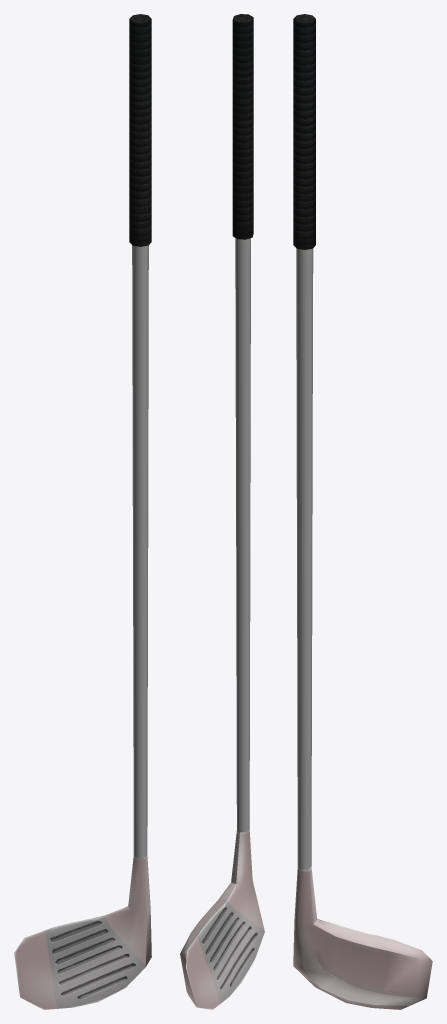
The model's file is IronsOTL.FBX.
The picture shows the model from 3 angles, left to right: view 1: azimuth 90°, elevation 25°; view 2: azimuth 150°, elevation 25°; view 3: azimuth 270°, elevation 25°; orthographic projection. The views are drawn at different scales.
Parts seen in each view (by area): view 1: Irons; view 2: Irons; view 3: Irons.
Boxes of the visible parts, <box> form: Irons: <box>14,14,151,1009</box>; Irons: <box>180,14,264,1009</box>; Irons: <box>293,14,432,1009</box>.
Bounding box in the file's own units: 0.0425 × 1.23 × 0.1566.
Materials: 1 (1 with a texture image).
